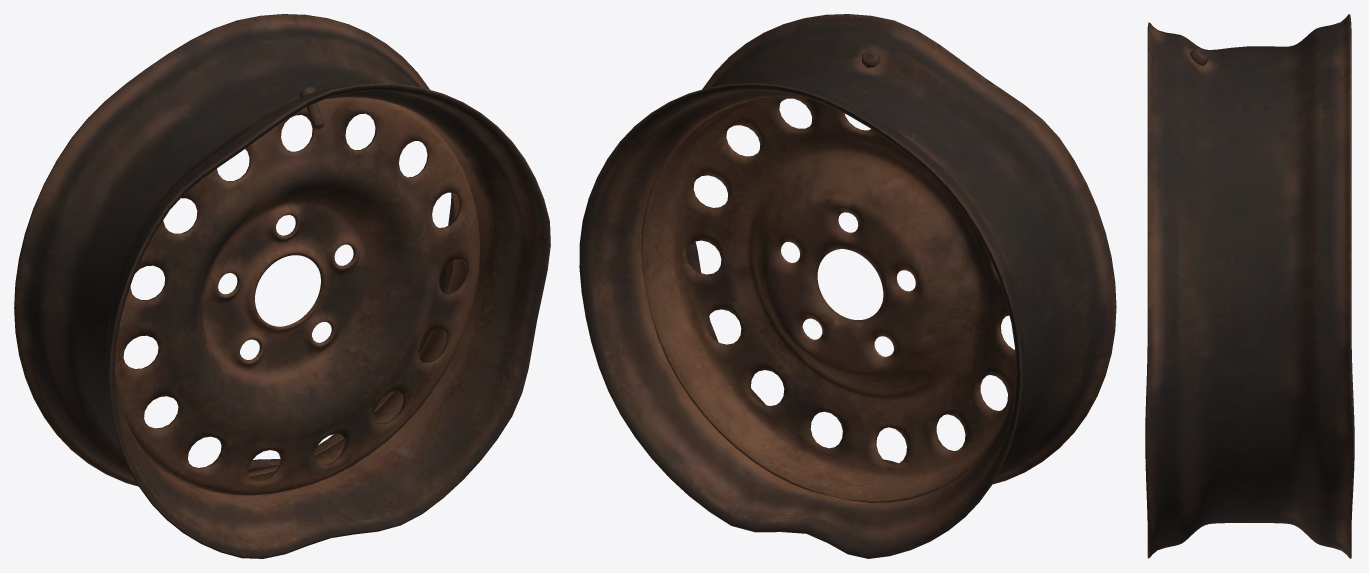
The model's file is rusted_wheel_rim_01.glb.
3 views of the same model, side by side, from view 1: azimuth 30°, elevation 25°; view 2: azimuth 150°, elevation 25°; view 3: azimuth 270°, elevation 25° (orthographic). The views are drawn at different scales.
Visible parts, largest first — view 1: rusted_wheel_rim_01; view 2: rusted_wheel_rim_01; view 3: rusted_wheel_rim_01.
Boxes of the visible parts, left/top/right/bottom form: rusted_wheel_rim_01: left=14, top=14, right=550, bottom=558; rusted_wheel_rim_01: left=579, top=14, right=1116, bottom=558; rusted_wheel_rim_01: left=1145, top=14, right=1354, bottom=558.
Bounding box in the file's own units: 0.4029 × 0.3955 × 0.1541.
Materials: 1 (1 with a texture image).
